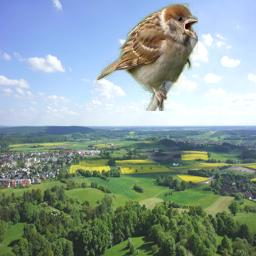Sparrow: (96, 2, 198, 111)
